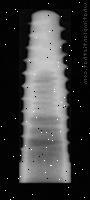Biomet 3i: (16, 8, 71, 183)
